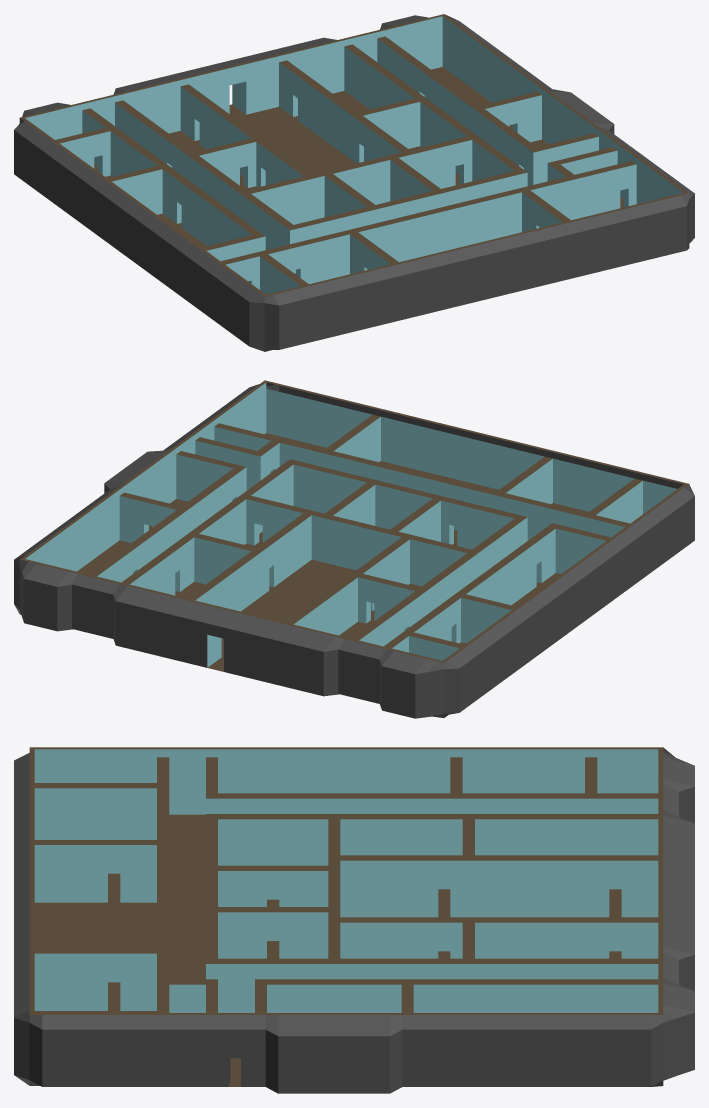
The model's file is InnerSphere.fbx.
3 views of the same model, one above another, from view 1: azimuth 30°, elevation 25°; view 2: azimuth 150°, elevation 25°; view 3: azimuth 270°, elevation 25° (orthographic). The views are drawn at different scales.
Parts seen in each view (by area): view 1: Cube; view 2: Cube; view 3: Cube.
Part boxes in pixels (x1,y1,x2,y2): Cube: (14, 14, 694, 351); Cube: (14, 380, 694, 718); Cube: (14, 747, 694, 1093).
Size of the model in its own units: 2150 by 248 by 2150.
